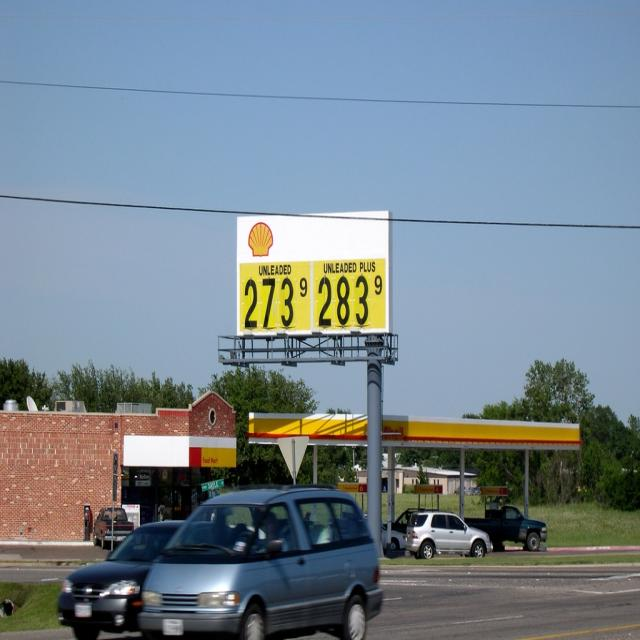shell: (250, 224, 275, 258)
